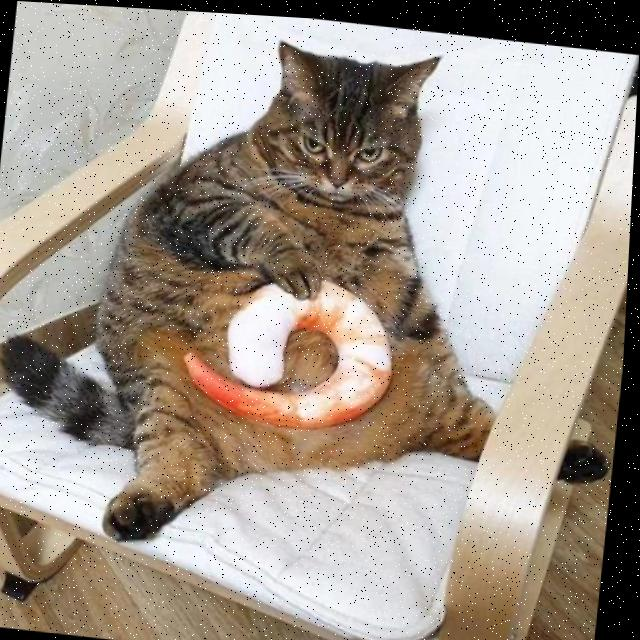Cats: (88, 5, 469, 571)
